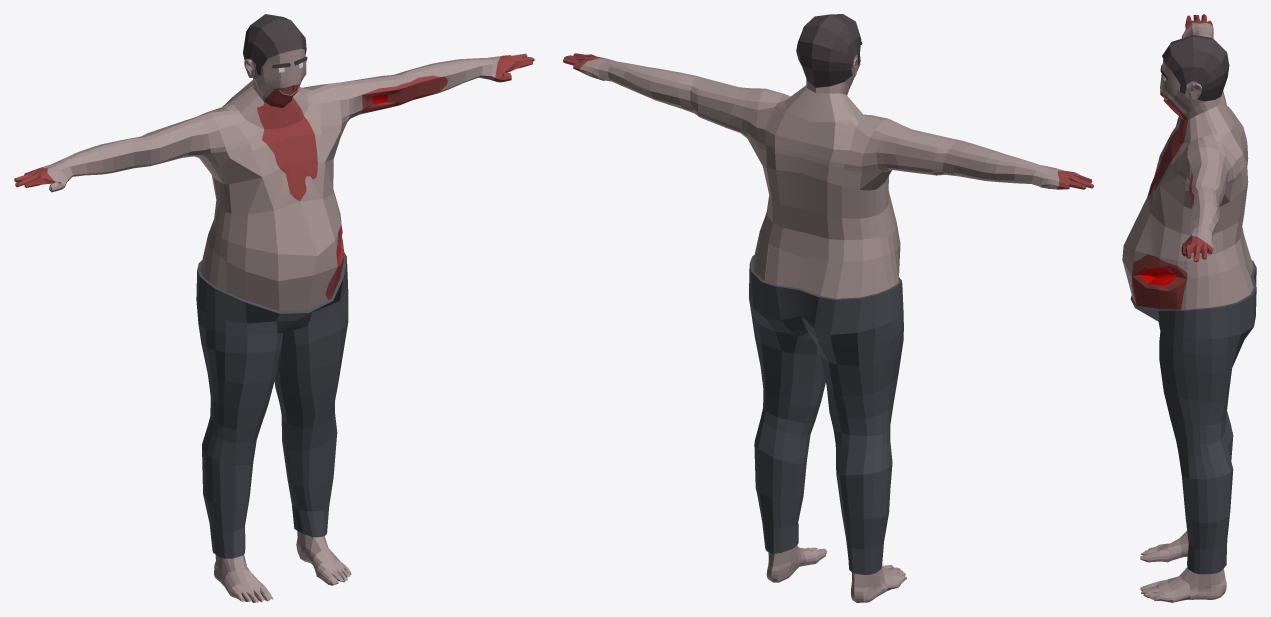
File: low_poly_boss_zombie.fbx
The picture shows the model from 3 angles, left to right: view 1: azimuth 30°, elevation 25°; view 2: azimuth 150°, elevation 25°; view 3: azimuth 270°, elevation 25°; orthographic projection. The views are drawn at different scales.
Visible parts, largest first — view 1: polySurface10, polySurface9, polySurface2; view 2: polySurface10, polySurface9, polySurface2; view 3: polySurface10, polySurface9, polySurface2.
Boxes of the visible parts, box(x1,y1,x2,y2) form: polySurface10: box(14, 48, 534, 602); polySurface9: box(196, 252, 348, 558); polySurface2: box(243, 14, 306, 75); polySurface10: box(563, 53, 1093, 602); polySurface9: box(749, 255, 903, 575); polySurface2: box(796, 14, 861, 87); polySurface10: box(1122, 14, 1253, 602); polySurface9: box(1130, 260, 1256, 574); polySurface2: box(1162, 35, 1229, 101).
Bounding box in the file's own units: 169 × 173 × 39.
